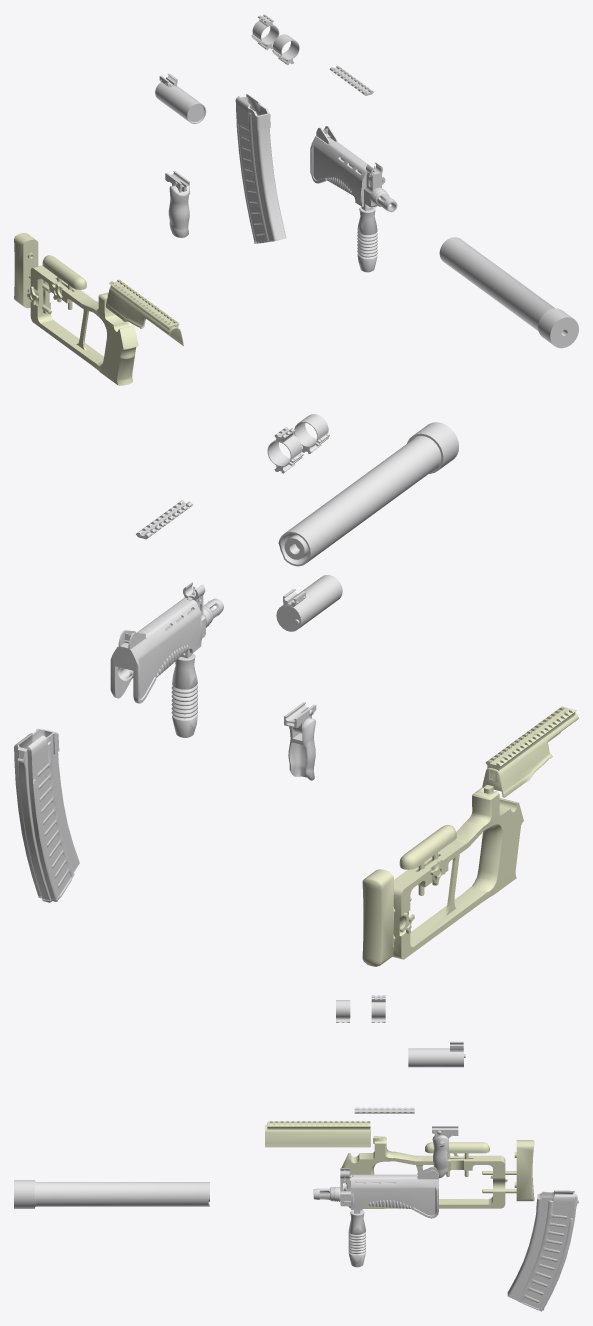
File: sr3m vssm.fbx
3 renders of one model, top to bottom at view 1: azimuth 30°, elevation 25°; view 2: azimuth 150°, elevation 25°; view 3: azimuth 270°, elevation 25°, orthographic. The views are drawn at different scales.
Visible parts, largest first — view 1: Stock_VSSM, Silencer_Vikhr, Mag_30, Barrel_Vikhr, Dustcover_VSSM, lights, Vertical_Grips, Foregrip_Vikhr, Vertical Grips.001; view 2: Stock_VSSM, Silencer_Vikhr, Mag_30, Barrel_Vikhr, Dustcover_VSSM, lights, Foregrip_Vikhr, Vertical Grips.001, Vertical_Grips; view 3: Stock_VSSM, Silencer_Vikhr, Mag_30, Barrel_Vikhr, Dustcover_VSSM, lights, Foregrip_Vikhr, Vertical_Grips, Vertical Grips.001.
Boxes of the visible parts, bbox=[...] form: Stock_VSSM: bbox=[14, 233, 138, 385]; Silencer_Vikhr: bbox=[439, 237, 578, 348]; Mag_30: bbox=[235, 94, 286, 243]; Barrel_Vikhr: bbox=[310, 126, 397, 212]; Dustcover_VSSM: bbox=[106, 279, 183, 346]; lights: bbox=[155, 73, 206, 123]; Vertical_Grips: bbox=[165, 170, 189, 237]; Foregrip_Vikhr: bbox=[357, 203, 377, 272]; Vertical Grips.001: bbox=[251, 14, 299, 65]; Stock_VSSM: bbox=[362, 785, 523, 966]; Silencer_Vikhr: bbox=[278, 422, 458, 566]; Mag_30: bbox=[14, 728, 79, 902]; Barrel_Vikhr: bbox=[110, 582, 223, 703]; Dustcover_VSSM: bbox=[482, 706, 578, 797]; lights: bbox=[276, 575, 342, 631]; Foregrip_Vikhr: bbox=[171, 650, 197, 737]; Vertical Grips.001: bbox=[267, 414, 329, 473]; Vertical_Grips: bbox=[284, 702, 316, 780]; Stock_VSSM: bbox=[341, 1136, 534, 1208]; Silencer_Vikhr: bbox=[14, 1180, 209, 1208]; Mag_30: bbox=[507, 1190, 578, 1311]; Barrel_Vikhr: bbox=[313, 1166, 438, 1218]; Dustcover_VSSM: bbox=[265, 1121, 370, 1147]; lights: bbox=[408, 1041, 465, 1067]; Foregrip_Vikhr: bbox=[348, 1210, 365, 1267]; Vertical_Grips: bbox=[432, 1126, 458, 1178]; Vertical Grips.001: bbox=[336, 995, 385, 1022].
Size of the model in its own units: 4415 by 4954 by 9214.
